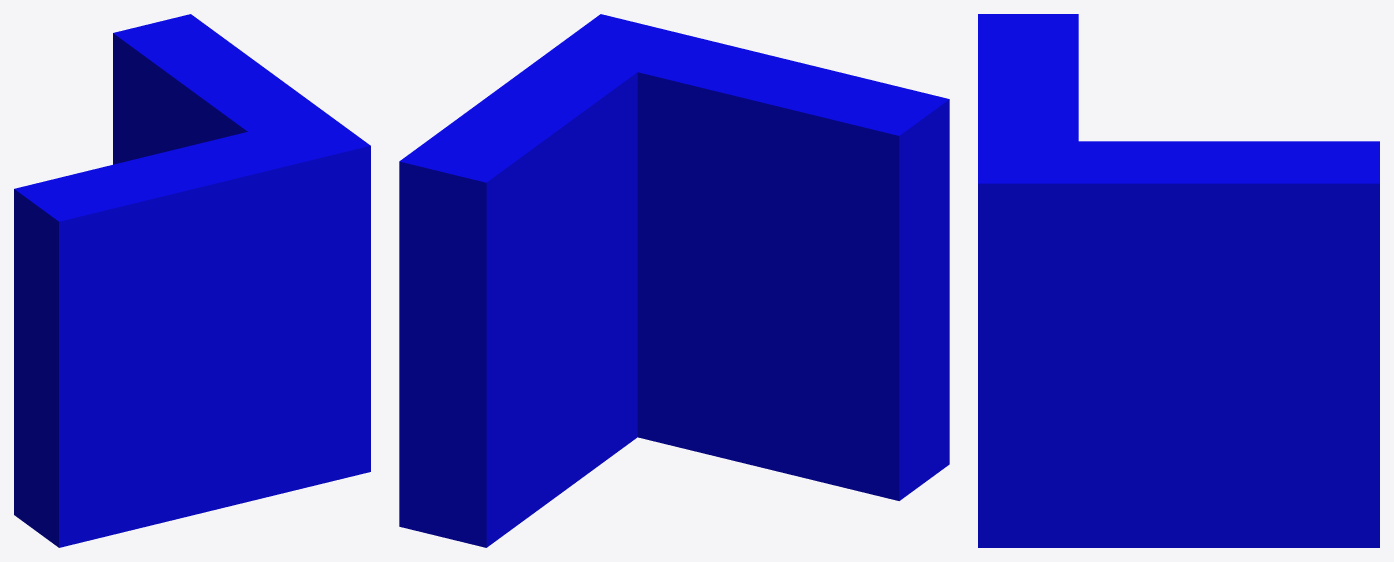
The model's file is WALL_CORNER_IN.fbx.
3 views of the same model, side by side, from view 1: azimuth 30°, elevation 25°; view 2: azimuth 150°, elevation 25°; view 3: azimuth 270°, elevation 25° (orthographic). The views are drawn at different scales.
Parts seen in each view (by area): view 1: WALL_CORNER_IN; view 2: WALL_CORNER_IN; view 3: WALL_CORNER_IN.
Boxes of the visible parts, left/top/right/bottom form: WALL_CORNER_IN: left=14, top=14, right=370, bottom=547; WALL_CORNER_IN: left=399, top=14, right=949, bottom=547; WALL_CORNER_IN: left=978, top=14, right=1379, bottom=547.
Bounding box in the file's own units: 400 × 400 × 400.
